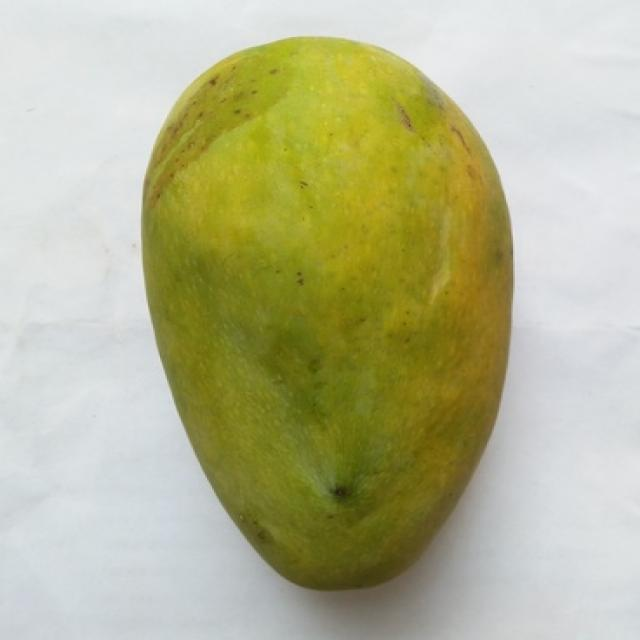Mango: (143, 38, 511, 589)
